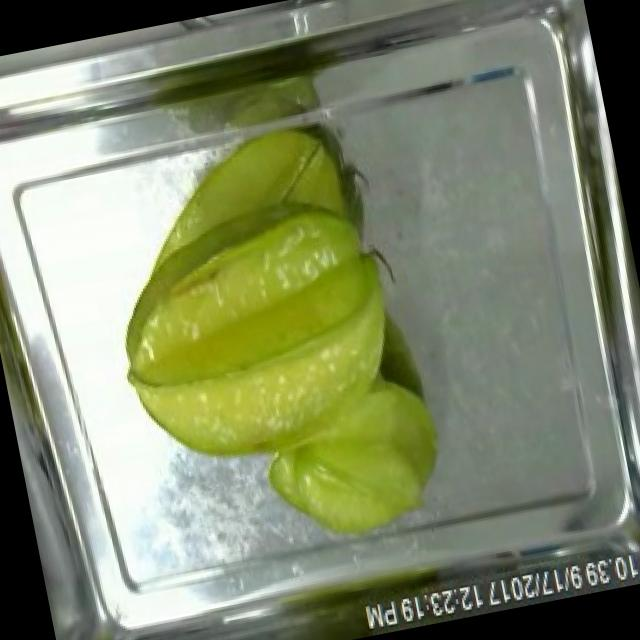fruit: (90, 188, 437, 494), (236, 334, 468, 564)
